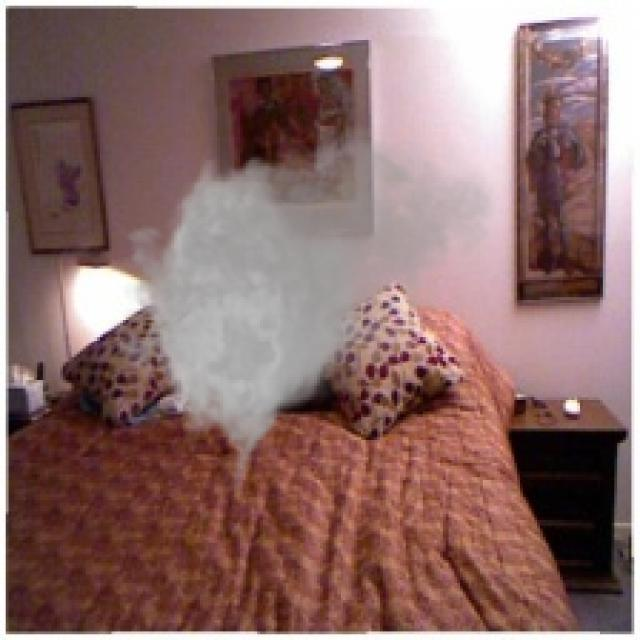smoke: (100, 117, 503, 500)
